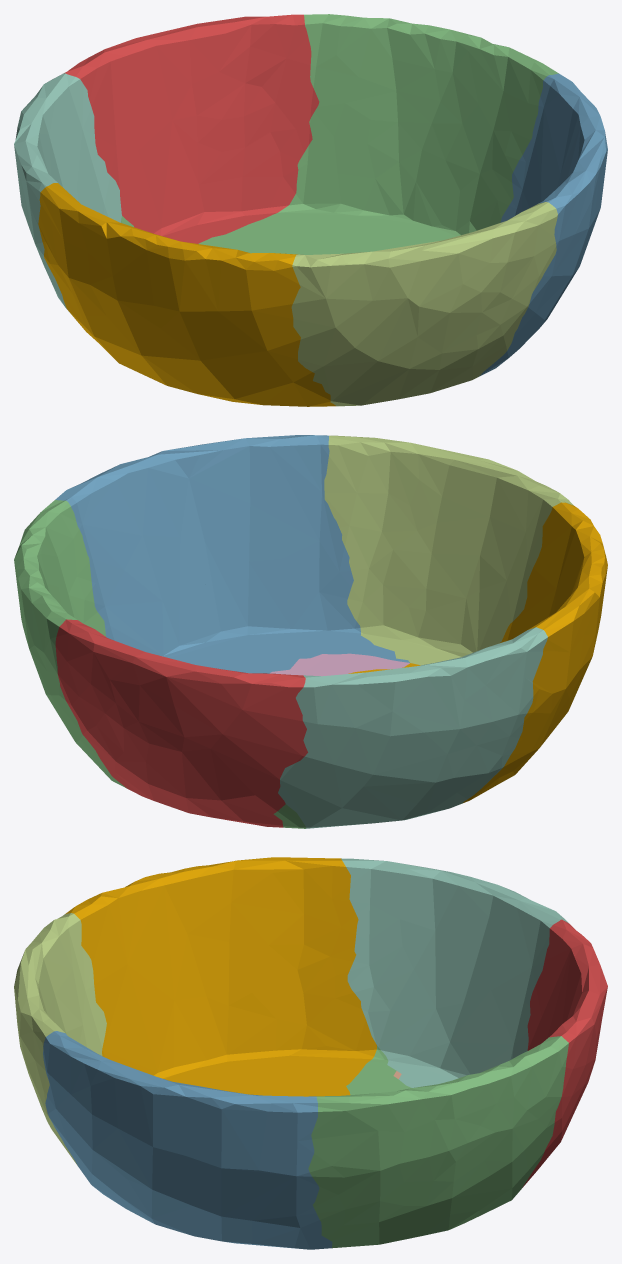
File: mode_7_8pcs.glb
3 views of the same model, one above another, from view 1: azimuth 30°, elevation 25°; view 2: azimuth 150°, elevation 25°; view 3: azimuth 270°, elevation 25° (orthographic).
Parts seen in each view (by area): view 1: piece_3.obj, piece_1.obj, piece_0.obj, piece_5.obj, piece_2.obj, piece_4.obj; view 2: piece_2.obj, piece_5.obj, piece_4.obj, piece_1.obj, piece_0.obj, piece_3.obj, piece_6.obj; view 3: piece_0.obj, piece_2.obj, piece_3.obj, piece_4.obj, piece_5.obj, piece_1.obj.
Part boxes in pixels (x1,y1,x2,y2): piece_3.obj: (121, 14, 558, 254); piece_1.obj: (64, 14, 319, 243); piece_0.obj: (38, 183, 335, 406); piece_5.obj: (291, 202, 557, 406); piece_2.obj: (479, 73, 607, 376); piece_4.obj: (14, 73, 121, 313); piece_2.obj: (55, 435, 409, 673); piece_5.obj: (324, 435, 573, 665); piece_4.obj: (278, 627, 547, 828); piece_1.obj: (55, 619, 307, 827); piece_0.obj: (348, 502, 607, 802); piece_3.obj: (14, 500, 463, 828); piece_6.obj: (269, 653, 409, 676); piece_0.obj: (65, 857, 376, 1096); piece_2.obj: (43, 1031, 332, 1249); piece_3.obj: (308, 1036, 568, 1248); piece_4.obj: (341, 858, 568, 1087); piece_5.obj: (14, 913, 106, 1165); piece_1.obj: (522, 919, 607, 1187).
Size of the model in its own units: 0.9983 by 0.33 by 1.
